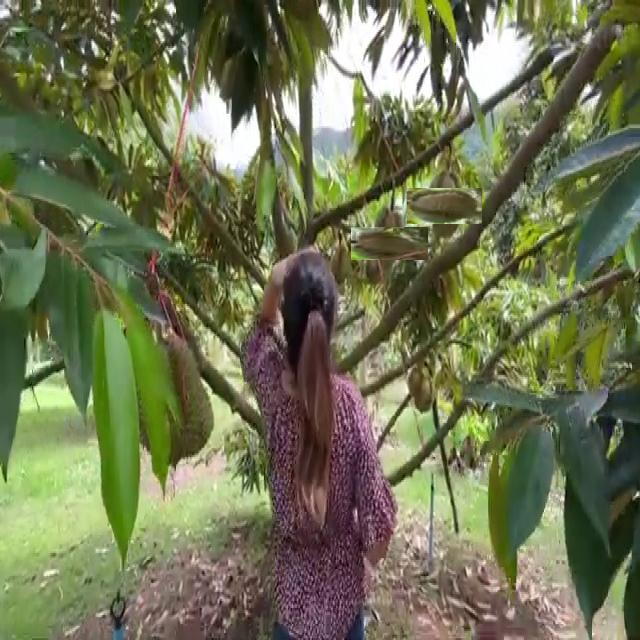durian: (362, 216, 418, 271), (417, 178, 472, 234), (415, 372, 434, 414)
